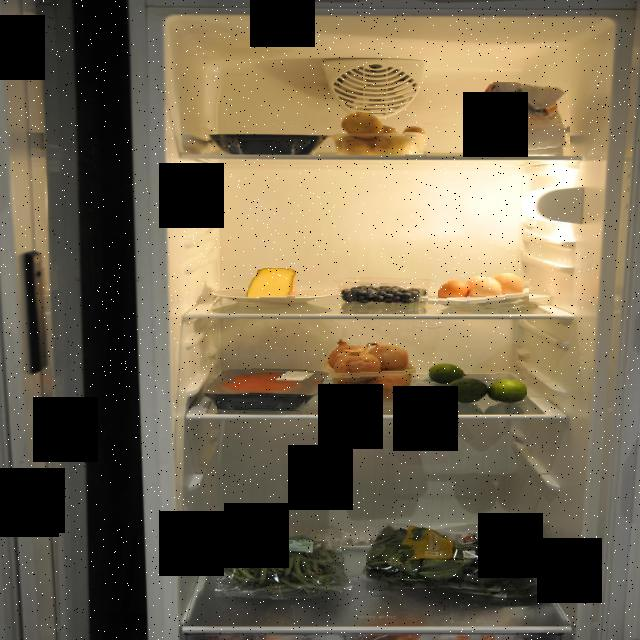beef: (217, 368, 308, 411)
blueberries: (336, 284, 428, 308)
cheese: (248, 268, 297, 302)
eggs: (438, 274, 530, 312)
flour: (466, 82, 570, 156)
green_beans: (221, 528, 342, 601)
lime: (427, 362, 527, 406)
onion: (324, 342, 416, 408)
potato: (336, 111, 427, 158)
spinach: (366, 523, 551, 598)
